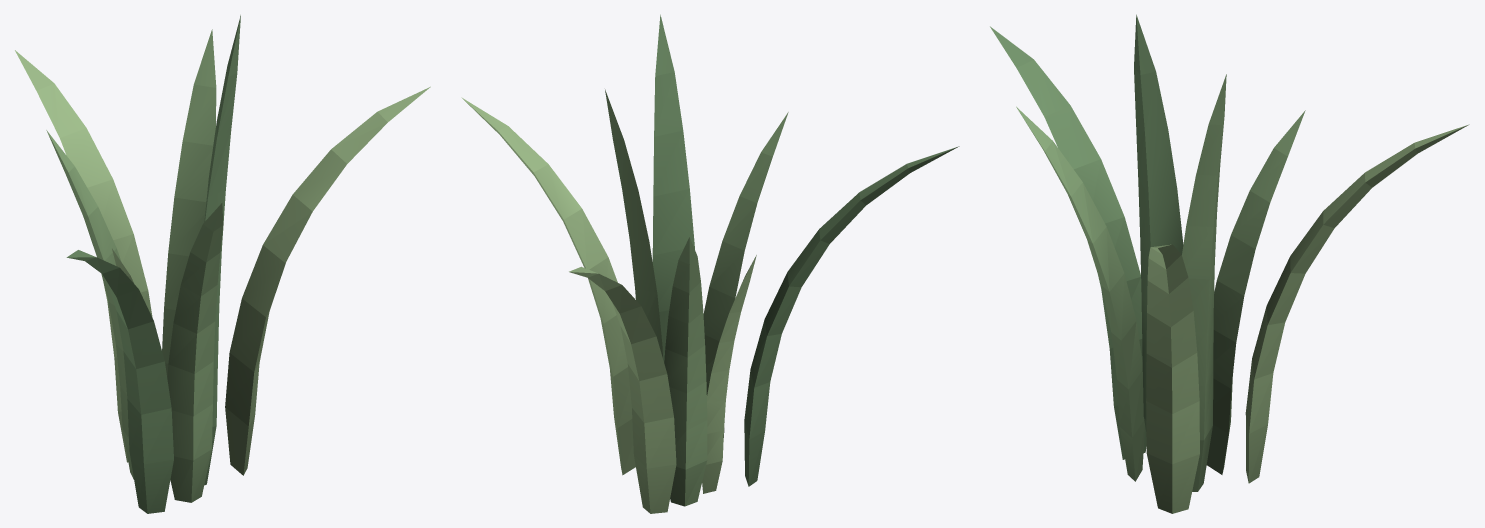
Rendered from tuft.glb.
3 views of the same model, side by side, from view 1: azimuth 30°, elevation 25°; view 2: azimuth 150°, elevation 25°; view 3: azimuth 270°, elevation 25° (orthographic). The views are drawn at different scales.
Parts seen in each view (by area): view 1: tuft; view 2: tuft; view 3: tuft.
Boxes of the visible parts, x1,y1,x2,y2 form: tuft: (15, 15, 430, 513); tuft: (461, 14, 959, 513); tuft: (990, 14, 1469, 513).
Bounding box in the file's own units: 0.8945 × 0.9041 × 0.8084.
